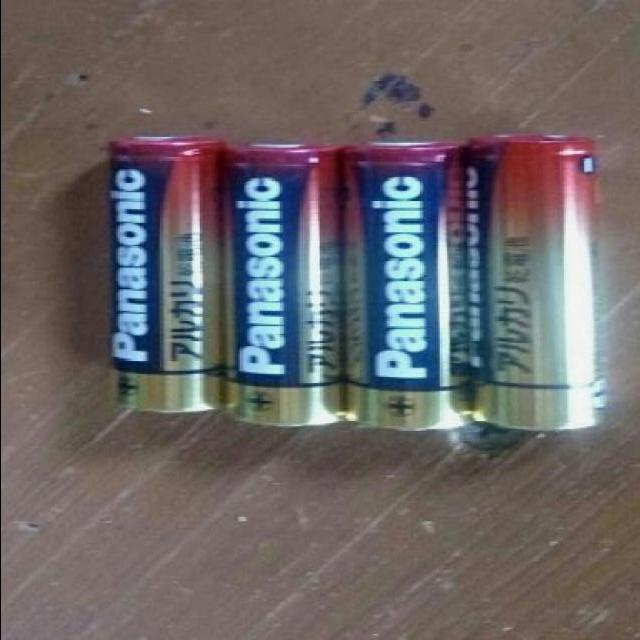AA: (340, 135, 483, 440), (223, 136, 357, 436), (479, 130, 598, 452), (100, 132, 220, 412)
